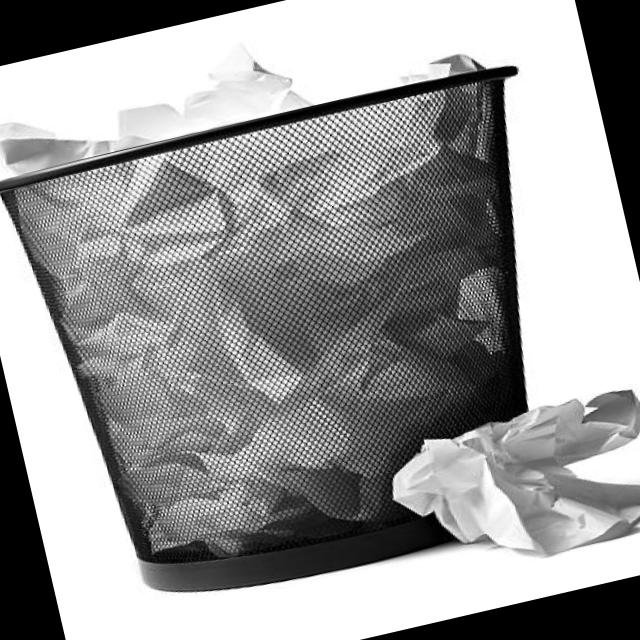electronic: (376, 380, 640, 586), (0, 30, 314, 179)
